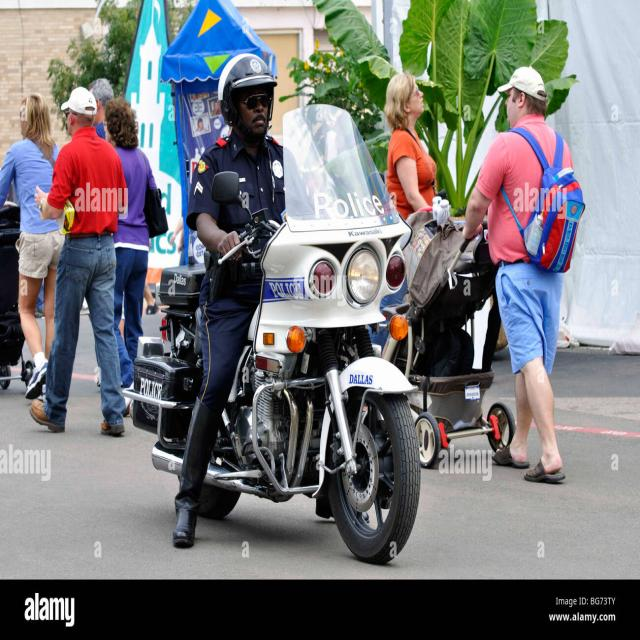police: (160, 36, 333, 574)
